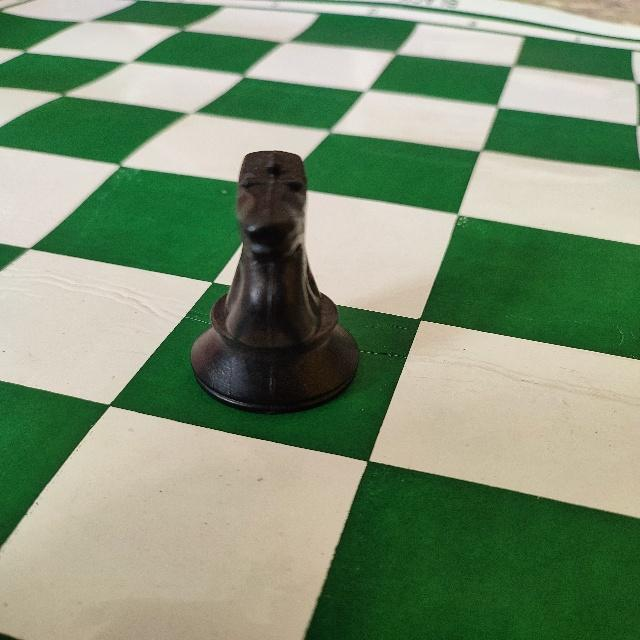Knight: (186, 147, 364, 418)
